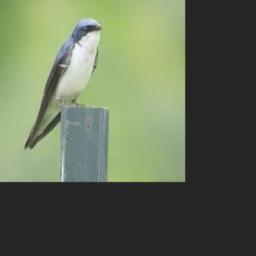Swallow: (24, 19, 105, 150)
